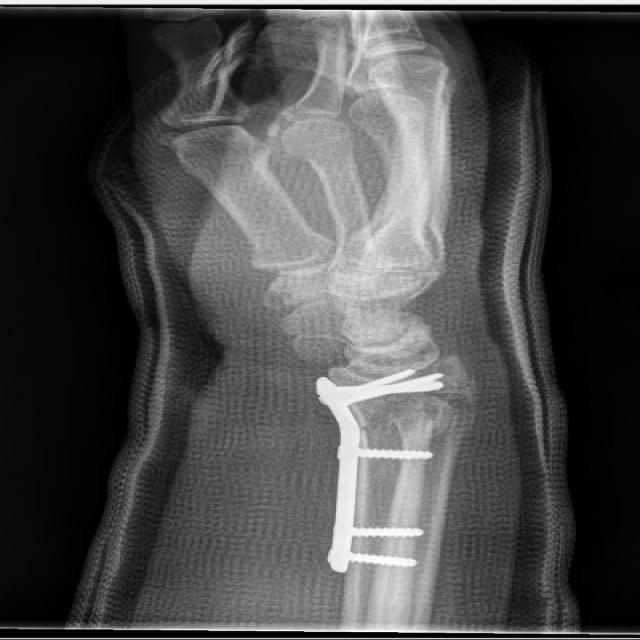x-ray: (307, 364, 451, 587)
